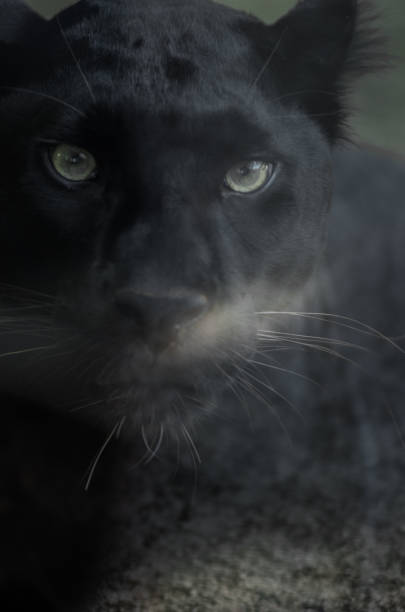panther: (6, 2, 405, 506)
